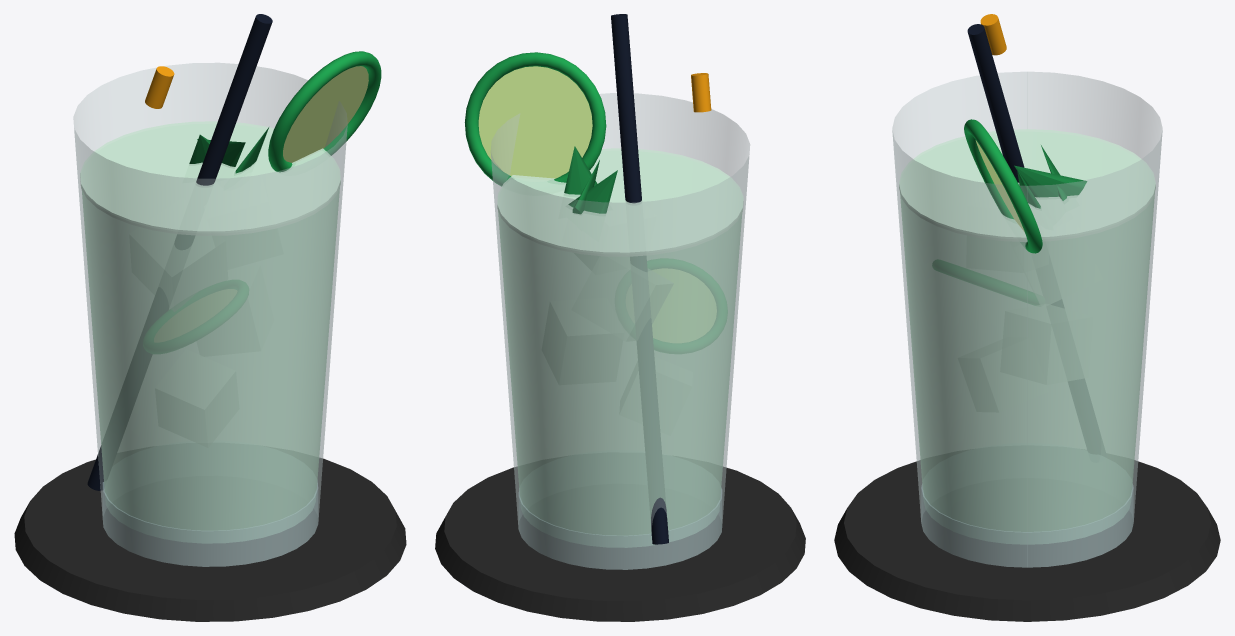
Rendered from lime-soda.glb.
3 views of the same model, side by side, from view 1: azimuth 30°, elevation 25°; view 2: azimuth 150°, elevation 25°; view 3: azimuth 270°, elevation 25° (orthographic). The views are drawn at different scales.
Bounding box in the file's own units: 0.8 × 1.2 × 0.8.
